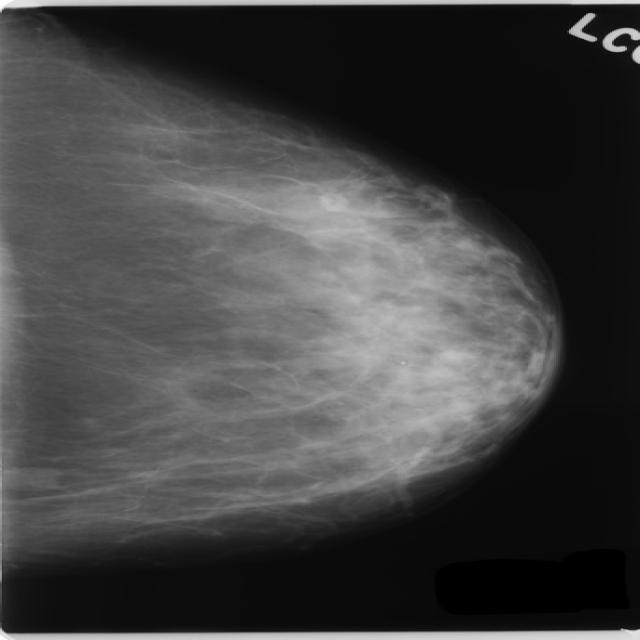tumour: (0, 464, 60, 491)
